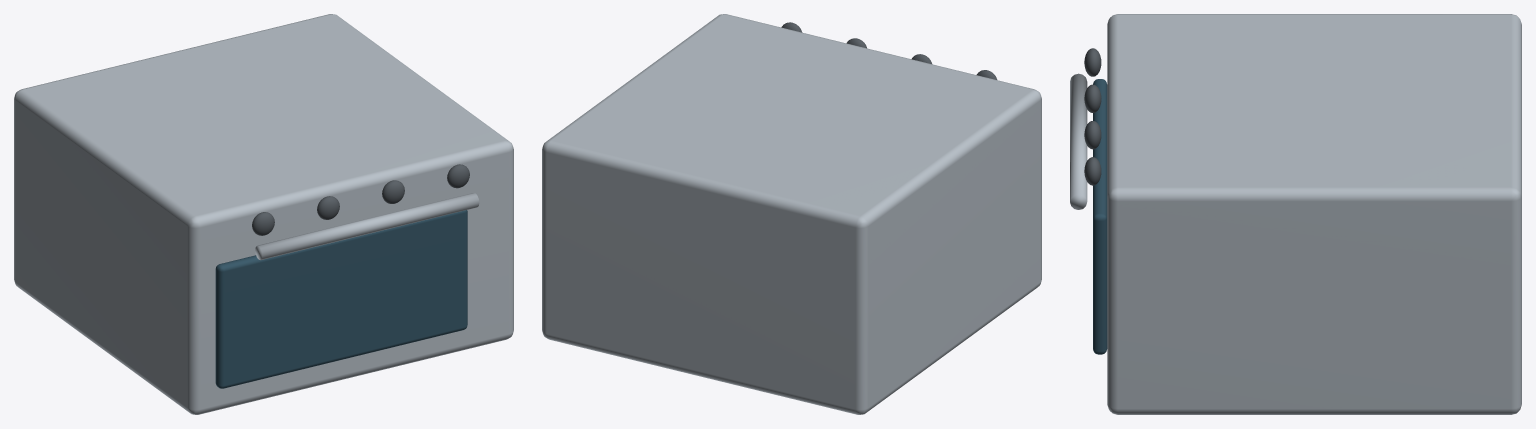
Rendered from atelier-microwave.glb.
The picture shows the model from 3 angles, left to right: view 1: azimuth 30°, elevation 25°; view 2: azimuth 150°, elevation 25°; view 3: azimuth 270°, elevation 25°; orthographic projection. The views are drawn at different scales.
Parts seen in each view (by area): view 1: steel.009, screen.002, metal.119; view 2: steel.009, metal.119; view 3: steel.009, screen.002, metal.119.
Part boxes in pixels (<box>): steel.009: <box>14,14,513,414</box>; screen.002: <box>215,210,467,388</box>; metal.119: <box>252,164,469,235</box>; steel.009: <box>542,14,1041,414</box>; metal.119: <box>781,22,997,79</box>; steel.009: <box>1070,14,1521,414</box>; screen.002: <box>1093,79,1107,354</box>; metal.119: <box>1084,48,1101,185</box>.
Bounding box in the file's own units: 0.6 × 0.35 × 0.632.
